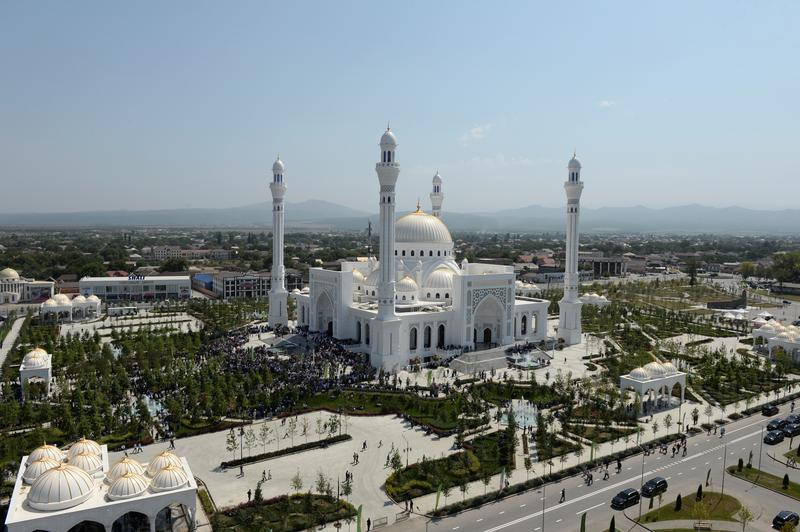Mosque: (250, 117, 599, 369)
